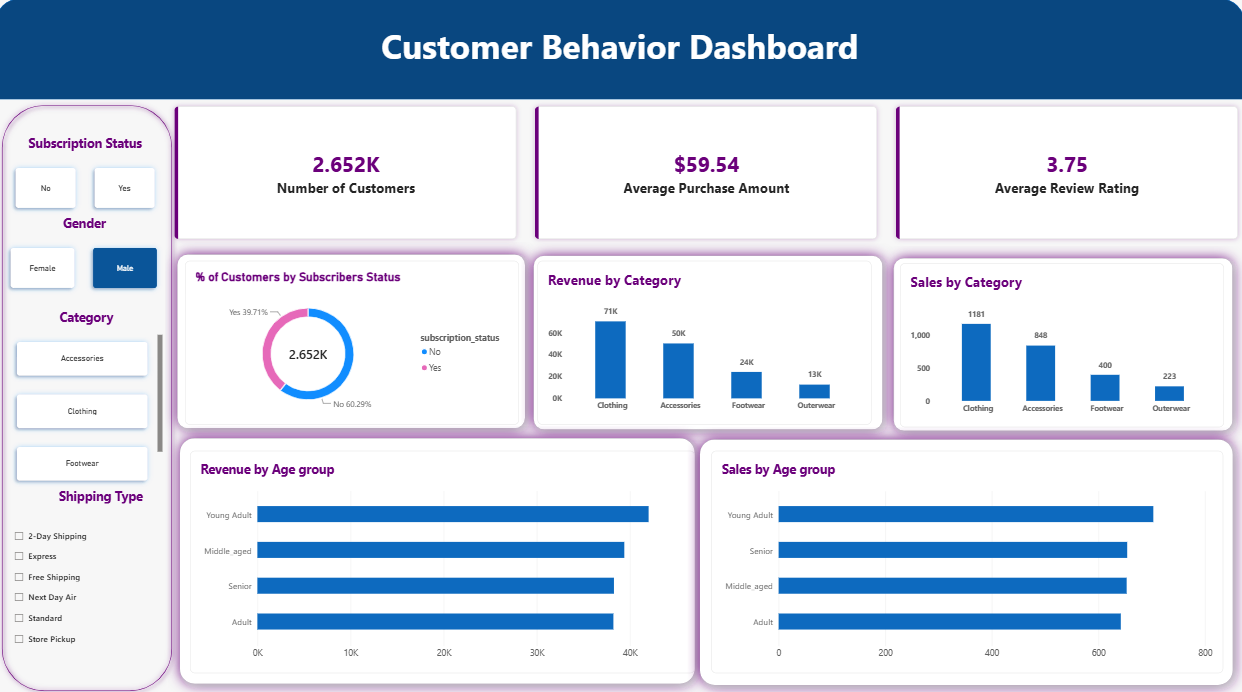

Layout of this report page (visuals, bound fields, positions):
{"tool":"powerbi","page":{"name":"Page 1","canvas":[2000,3000],"ordinal":0},"visuals":[{"type":"cardVisual","fields":{"Data":["public customer.Number of Customers","public customer.Average Purchase Amount","public customer.Average Review Rating"]},"box":[276.9,163.5,1723.1,234.6],"z":0},{"type":"shape","box":[0,1.9,2000,162],"z":1000},{"type":"textbox","box":[0,42,2000,120],"z":2000},{"type":"shape","box":[272,392,596,318],"z":3000},{"type":"donutChart","title":"% of Customers by Subscribers Status","fields":{"Category":["public customer.subscription_status"],"Y":["CountNonNull(public customer.customer_id)"]},"box":[304,422,534,262],"z":4000},{"type":"shape","box":[1417.3,398.1,582,316],"z":5000},{"type":"shape","box":[842,394,598,318],"z":6000},{"type":"lineClusteredColumnComboChart","title":"Revenue by Category","fields":{"Category":["public customer.category"],"Y":["Sum(public customer.purchase_amount)"]},"box":[868,422,534,262],"z":7000},{"type":"lineClusteredColumnComboChart","title":"Sales by Category","fields":{"Category":["public customer.category"],"Y":["CountNonNull(public customer.customer_id)"]},"box":[1448.1,425,518,262],"z":8000},{"type":"shape","box":[1.9,163.5,290.4,955.8],"z":9000},{"type":"advancedSlicerVisual","title":"Subscription Status","fields":{"Values":["public customer.subscription_status"]},"box":[21.2,219.2,244.2,128.8],"z":10000},{"type":"advancedSlicerVisual","title":"Gender","fields":{"Values":["public customer.gender"]},"box":[13.5,348.1,257.7,128.8],"z":11000},{"type":"advancedSlicerVisual","title":"Category","fields":{"Values":["public customer.category"]},"box":[23.1,498.1,244.2,286.5],"z":12000},{"type":"slicer","fields":{"Values":["public customer.shipping_type"]},"box":[24,784,290.4,319.2],"z":13000},{"type":"shape","box":[276.9,686.5,863.5,432.7],"z":14000},{"type":"clusteredBarChart","title":"Revenue by Age group","fields":{"Category":["public customer.age_group"],"Y":["Sum(public customer.purchase_amount)"]},"box":[311.5,726.9,807.7,355.8],"z":15000},{"type":"shape","box":[1107.7,688.5,892.3,432.7],"z":16000},{"type":"clusteredBarChart","title":"Sales by Age group","fields":{"Category":["public customer.age_group"],"Y":["CountNonNull(public customer.customer_id)"]},"box":[1146.2,725,819.2,355.8],"z":17000}]}

Visuals, with their boxes on the page's 2000x3000 design canvas (x1, y1, x2, y2). These are canvas units, not pixel positions in the 1242x692 screenshot, which may show the page scaled, cropped or inside an application window:
cardVisual - public customer.Number of Customers x public customer.Average Purchase Amount: bbox=[277, 164, 2000, 398]
shape: bbox=[0, 2, 2000, 164]
textbox: bbox=[0, 42, 2000, 162]
shape: bbox=[272, 392, 868, 710]
"% of Customers by Subscribers Status" donutChart: bbox=[304, 422, 838, 684]
shape: bbox=[1417, 398, 1999, 714]
shape: bbox=[842, 394, 1440, 712]
"Revenue by Category" lineClusteredColumnComboChart: bbox=[868, 422, 1402, 684]
"Sales by Category" lineClusteredColumnComboChart: bbox=[1448, 425, 1966, 687]
shape: bbox=[2, 164, 292, 1119]
"Subscription Status" advancedSlicerVisual: bbox=[21, 219, 265, 348]
"Gender" advancedSlicerVisual: bbox=[14, 348, 271, 477]
"Category" advancedSlicerVisual: bbox=[23, 498, 267, 785]
slicer - public customer.shipping_type: bbox=[24, 784, 314, 1103]
shape: bbox=[277, 686, 1140, 1119]
"Revenue by Age group" clusteredBarChart: bbox=[312, 727, 1119, 1083]
shape: bbox=[1108, 688, 2000, 1121]
"Sales by Age group" clusteredBarChart: bbox=[1146, 725, 1965, 1081]
